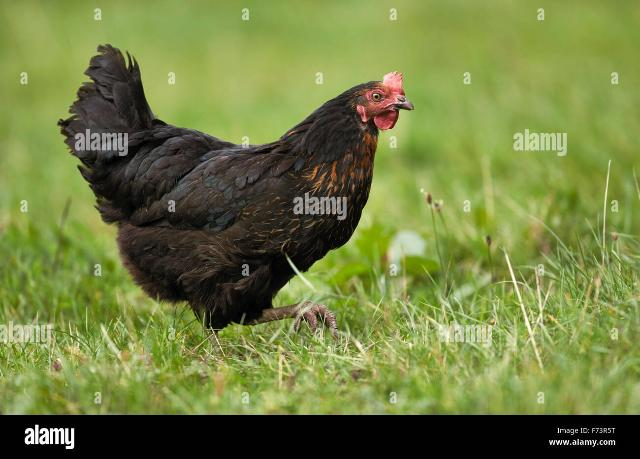Chicken: (59, 45, 414, 337)
